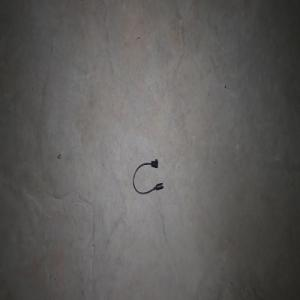Wire: (132, 158, 163, 194)
